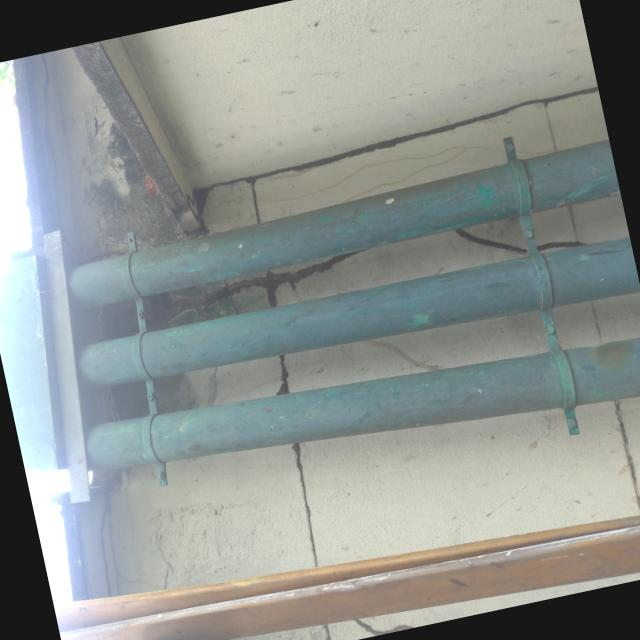gas: (74, 138, 615, 309), (86, 238, 640, 385), (97, 339, 640, 466)
